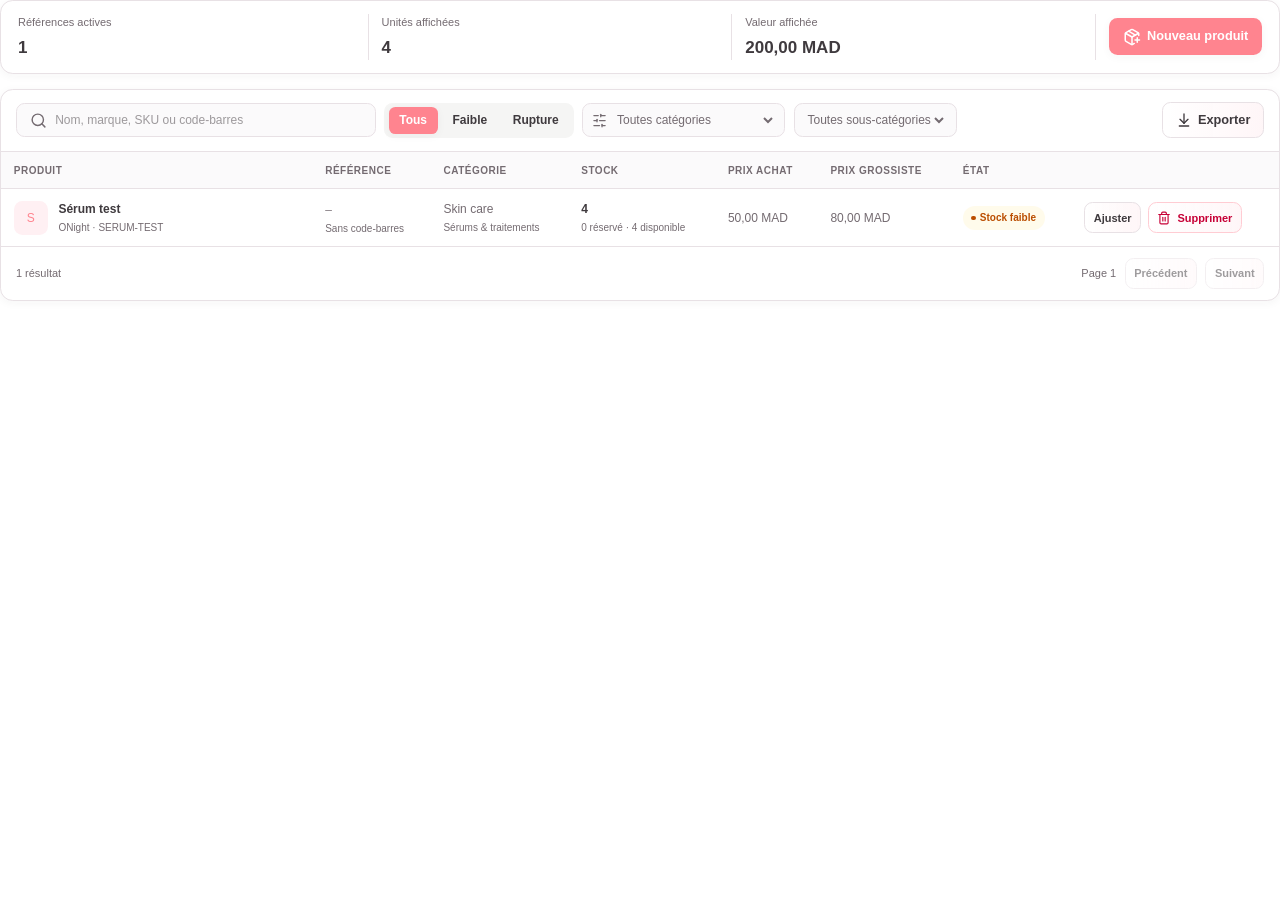
Test: product deletion › asks an admin to confirm before deleting
Click the button "Supprimer" at x=1195, y=218, box [1148, 202, 1242, 234]
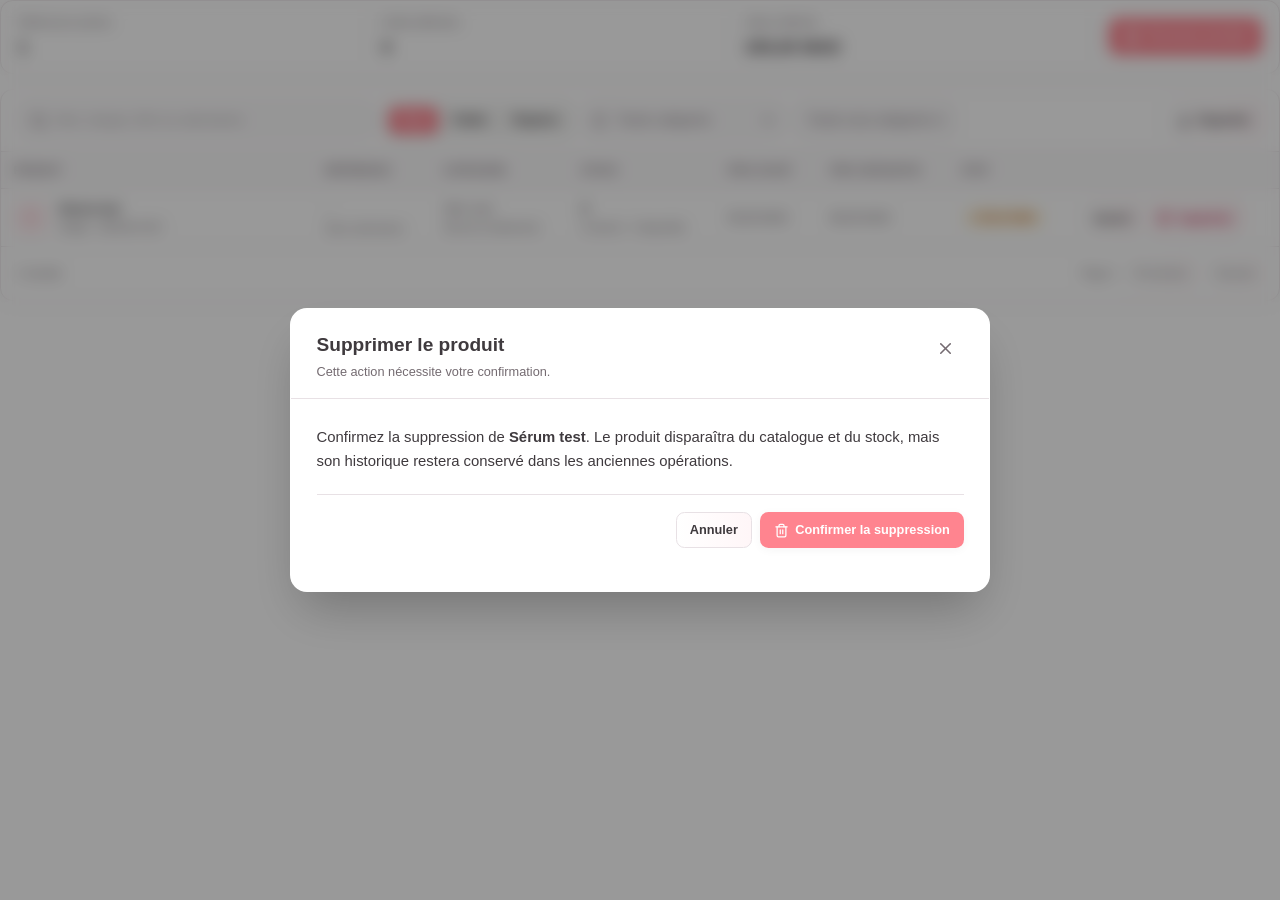
Expected: the dialog "Supprimer le produit" is shown, [290, 308, 990, 592]
Expected: the text "Sérum test" is shown, [509, 429, 586, 445]
Click the button "Confirmer la suppression" at x=862, y=530, box [760, 512, 964, 548]
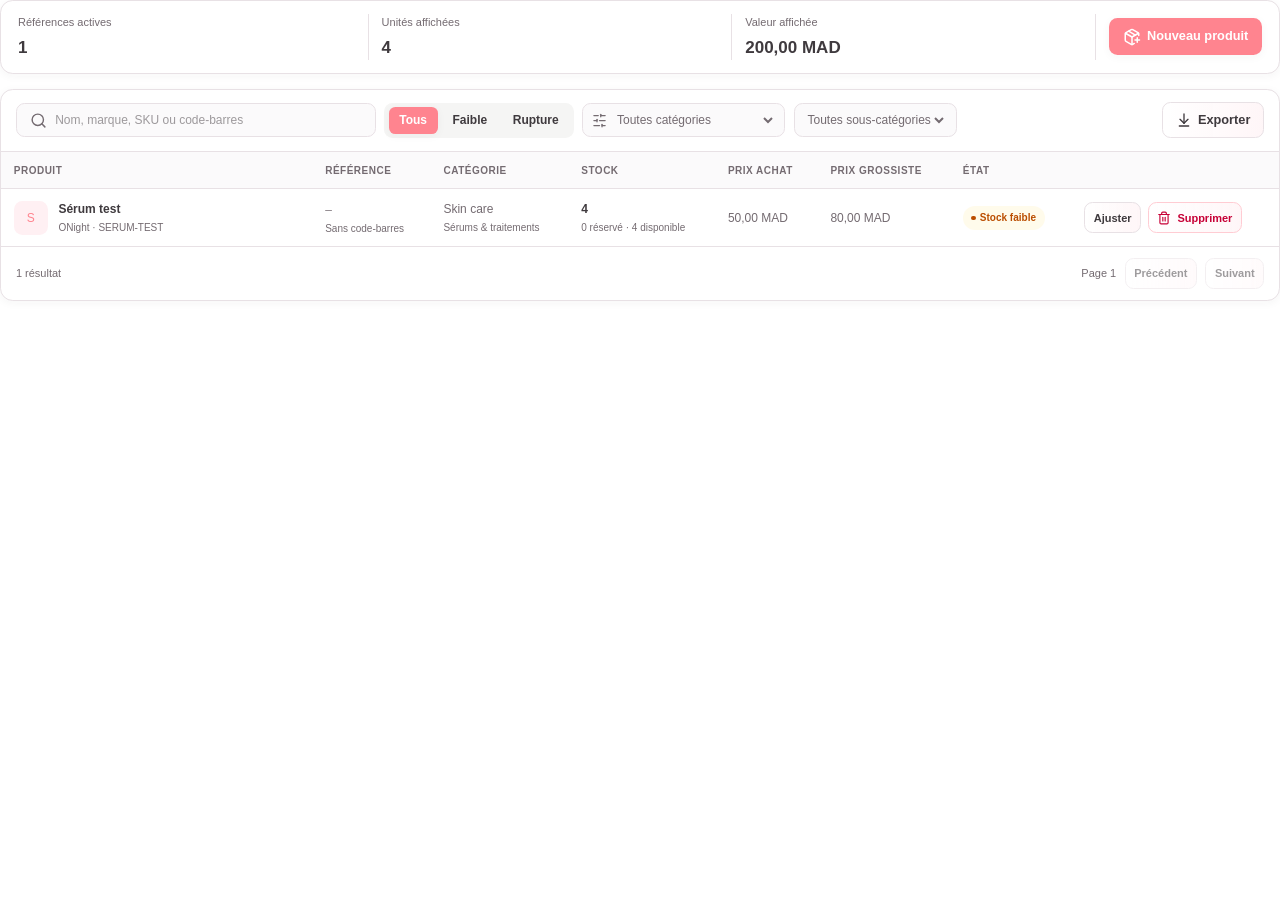
Expected: the heading "Supprimer le produit" is gone
